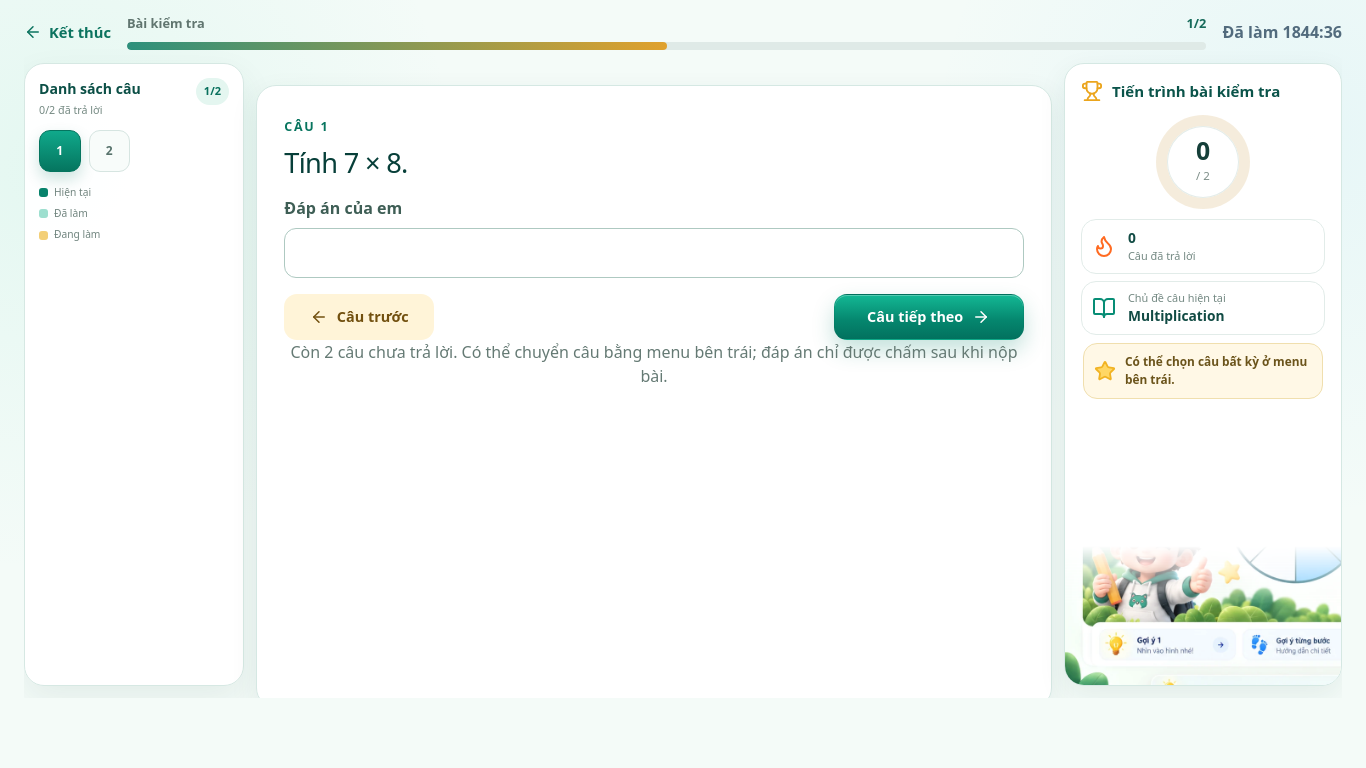
Test case: unfinished session History regression › autosaves Test ANSWERED + WORKING without exposing correctness before submit
expect the heading "Tính 7 × 8." is shown: met, box x1=284 y1=144 x2=408 y2=181
Type "56" into the field labelled "Đáp án của em".
click(654, 253); type("56")  # box x1=284 y1=228 x2=1024 y2=278
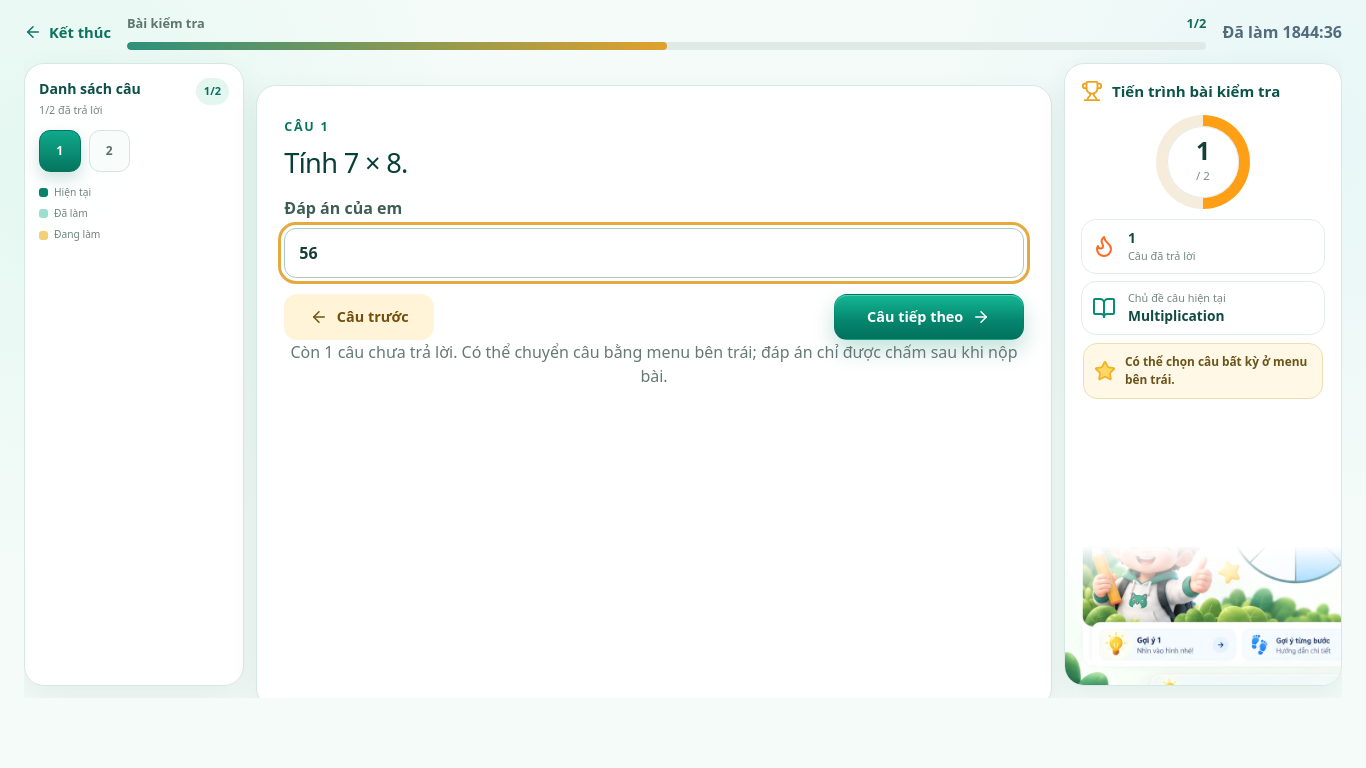
Click the button "Câu tiếp theo".
click(929, 317)  # box x1=834 y1=294 x2=1024 y2=340
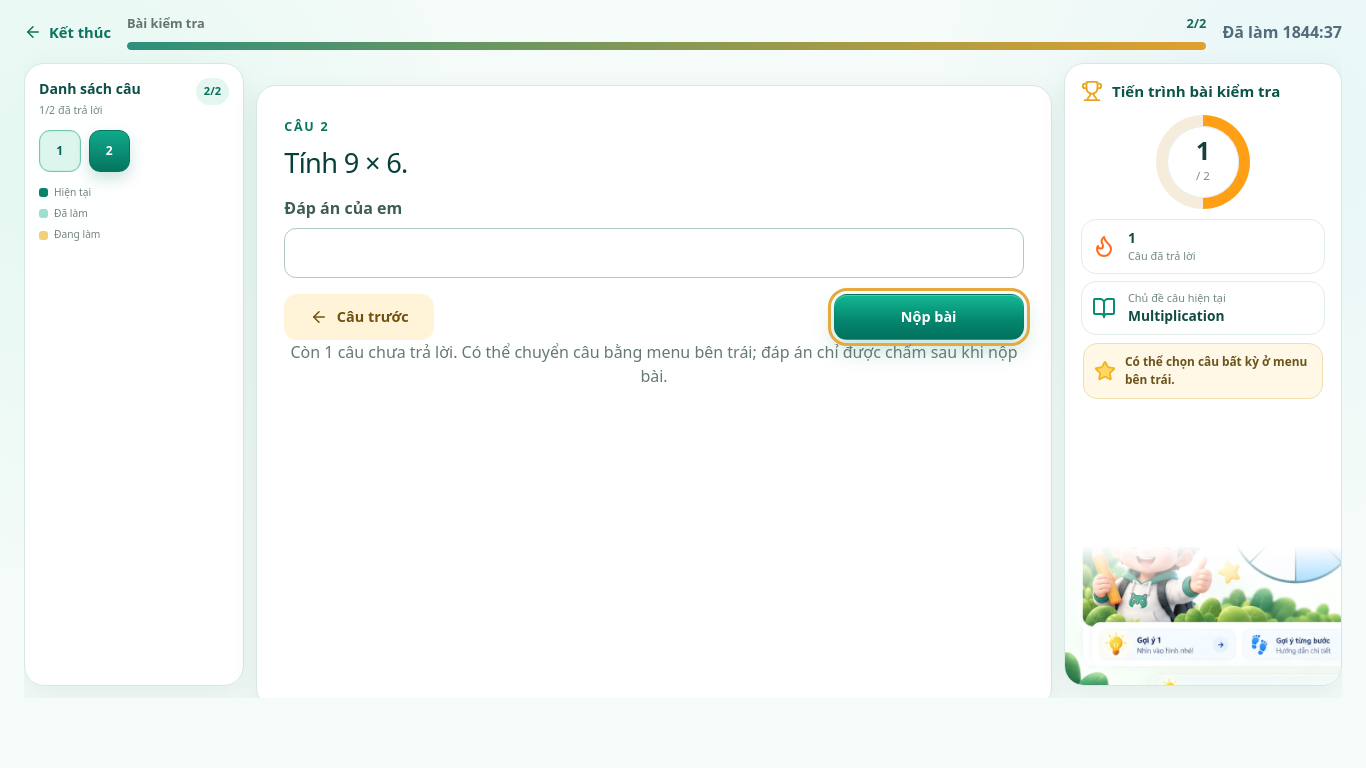
expect the heading "Tính 9 × 6." is shown: met, box x1=284 y1=144 x2=408 y2=181
